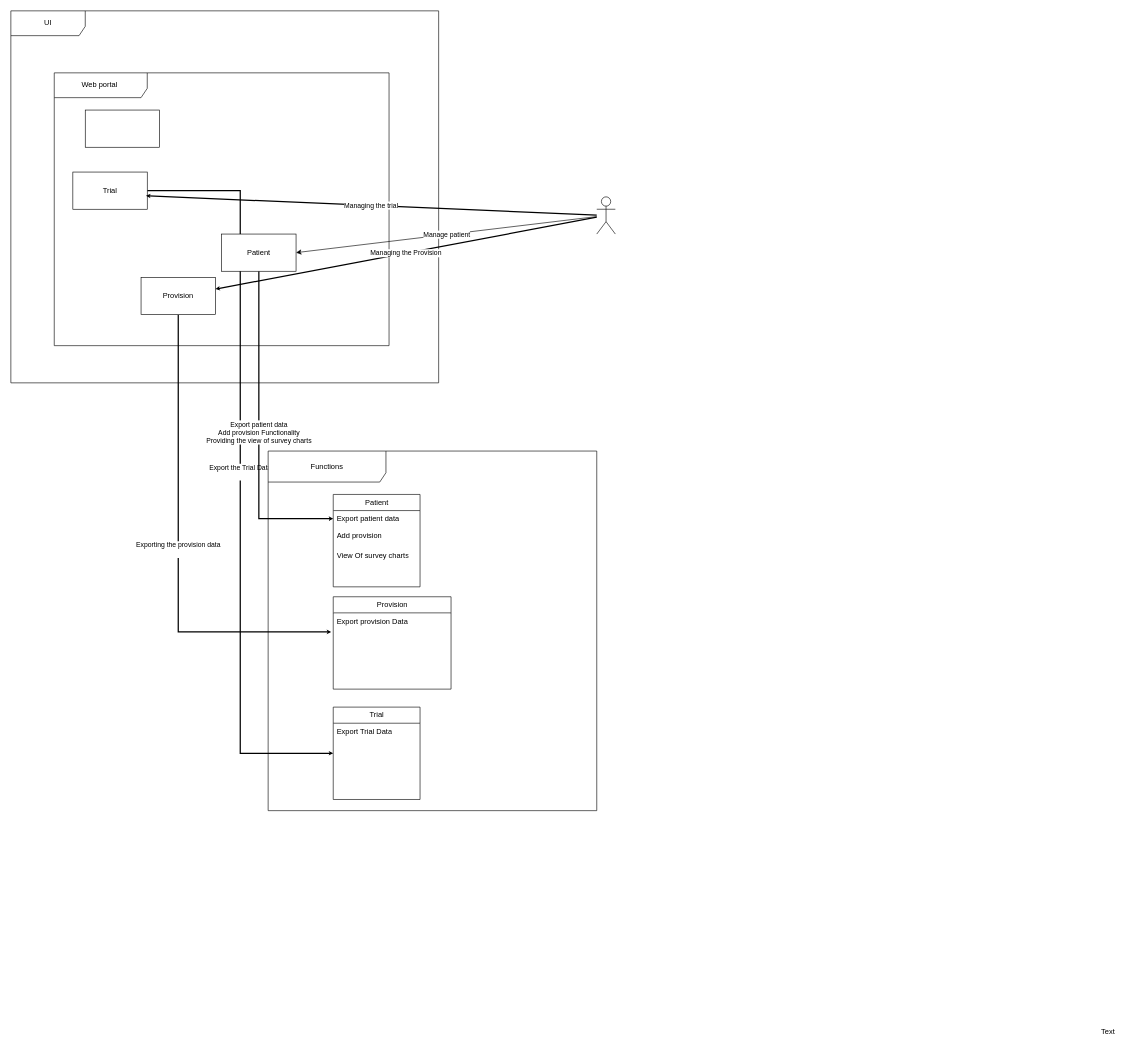
The diagram is 1136 pixels wide and 1048 high, and some of its shapes have lost their labels. The shapes that lost their labels are listed below. From the top down, each one's centre as x and y in pixels, then its label:
point 122,128: Dashboard
point 605,215: Clinician
